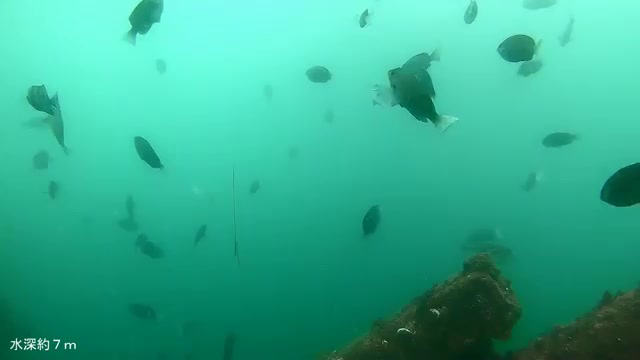smallfish: (378, 65, 462, 131), (121, 1, 171, 53), (126, 129, 171, 178), (483, 31, 531, 66), (535, 125, 587, 150), (298, 62, 338, 89)
